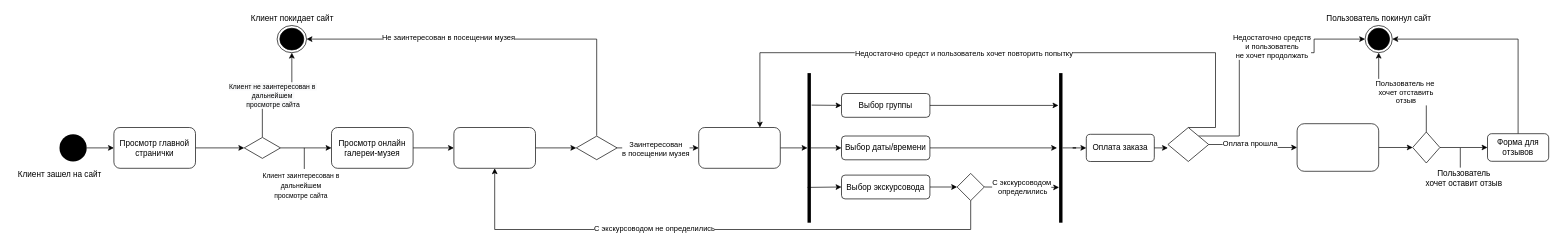
Some shapes in this 1561 by 247 pixel diagram are drawn without their labels. Here are the shapes that lost their labels. From the top down, the centre of each, then its label:
At point (494, 147): "Просмотр действующих экскурсоводов".
At point (739, 147): "Переход на страницу оформления билета".
At point (1337, 147): "Отсылка электронного билета пользователю".
